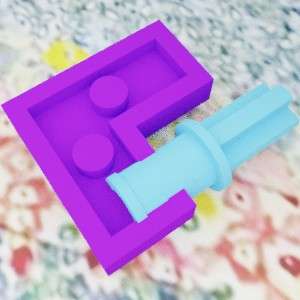lego: (0, 19, 214, 276), (105, 82, 300, 235)
